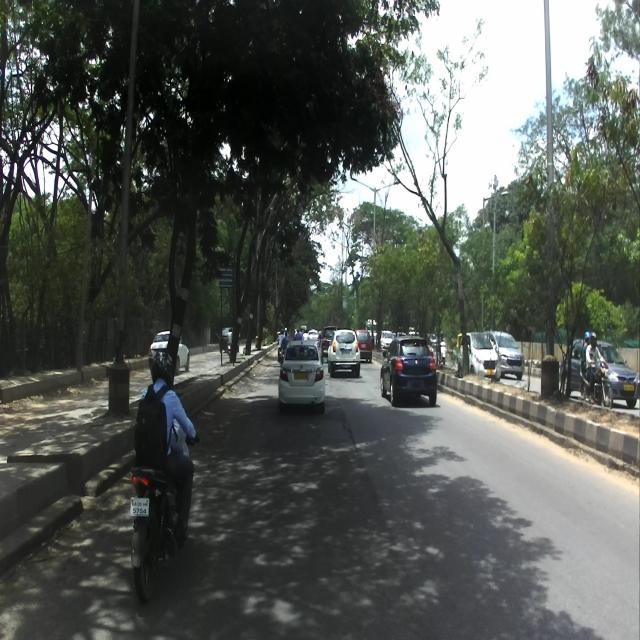Car_Honda: (277, 343, 325, 414)
Car_Maruti-Suzuki: (379, 332, 436, 403)
motorcycle_bajaj: (130, 426, 198, 602)
